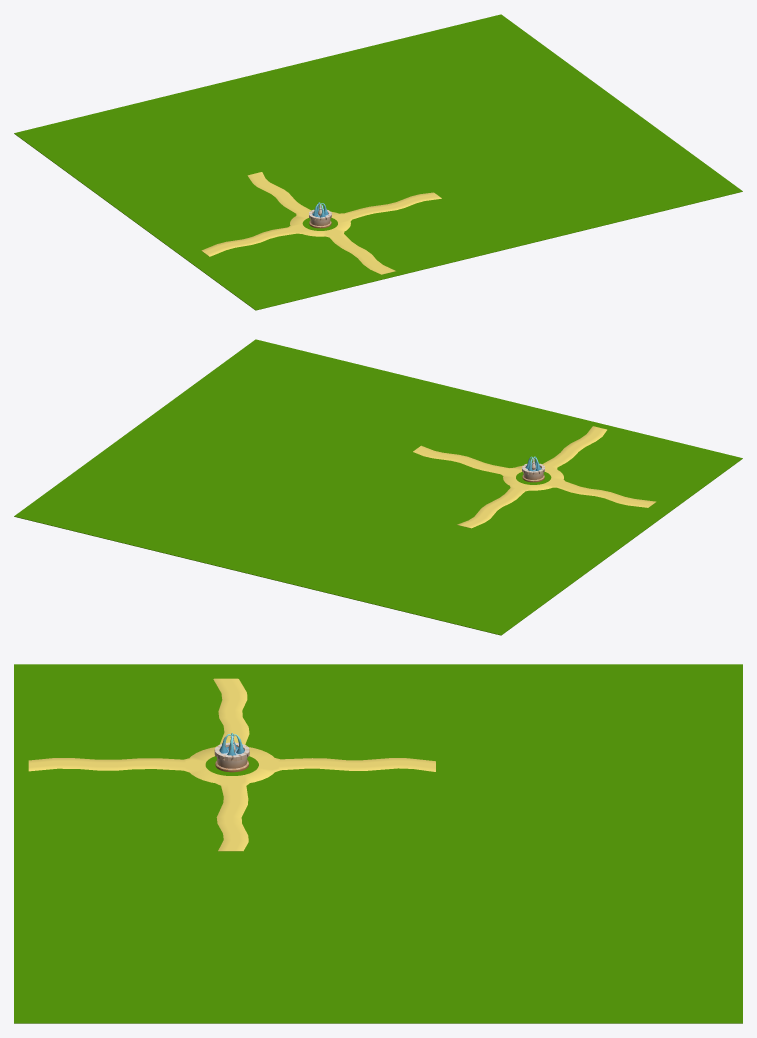
File: parkroad.dae
3 renders of one model, top to bottom at view 1: azimuth 30°, elevation 25°; view 2: azimuth 150°, elevation 25°; view 3: azimuth 270°, elevation 25°, orthographic. The views are drawn at different scales.
Parts seen in each view (by area): view 1: 땅, Circle.004; view 2: 땅, Circle.004; view 3: 땅, Circle.004, Stone.002.
Boxes of the visible parts, bbox=[...] form: 땅: bbox=[14, 14, 742, 310]; Circle.004: bbox=[201, 172, 441, 274]; 땅: bbox=[14, 339, 742, 635]; Circle.004: bbox=[413, 426, 656, 528]; 땅: bbox=[14, 664, 742, 1023]; Circle.004: bbox=[28, 678, 435, 851]; Stone.002: bbox=[214, 736, 249, 772].
Bounding box in the file's own units: 5226 × 4491 × 215.
Materials: 2 (1 with a texture image).
